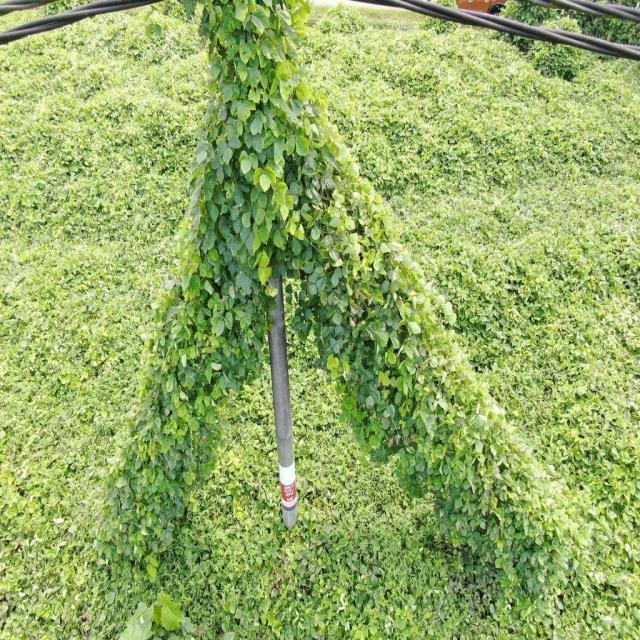critical vegetation: (299, 82, 590, 590), (93, 0, 287, 552)
